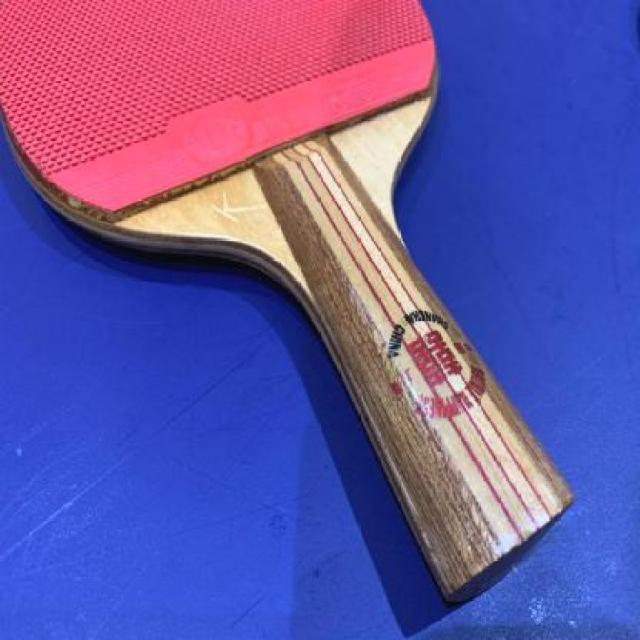table_tennis_racket: (0, 0, 451, 277)
